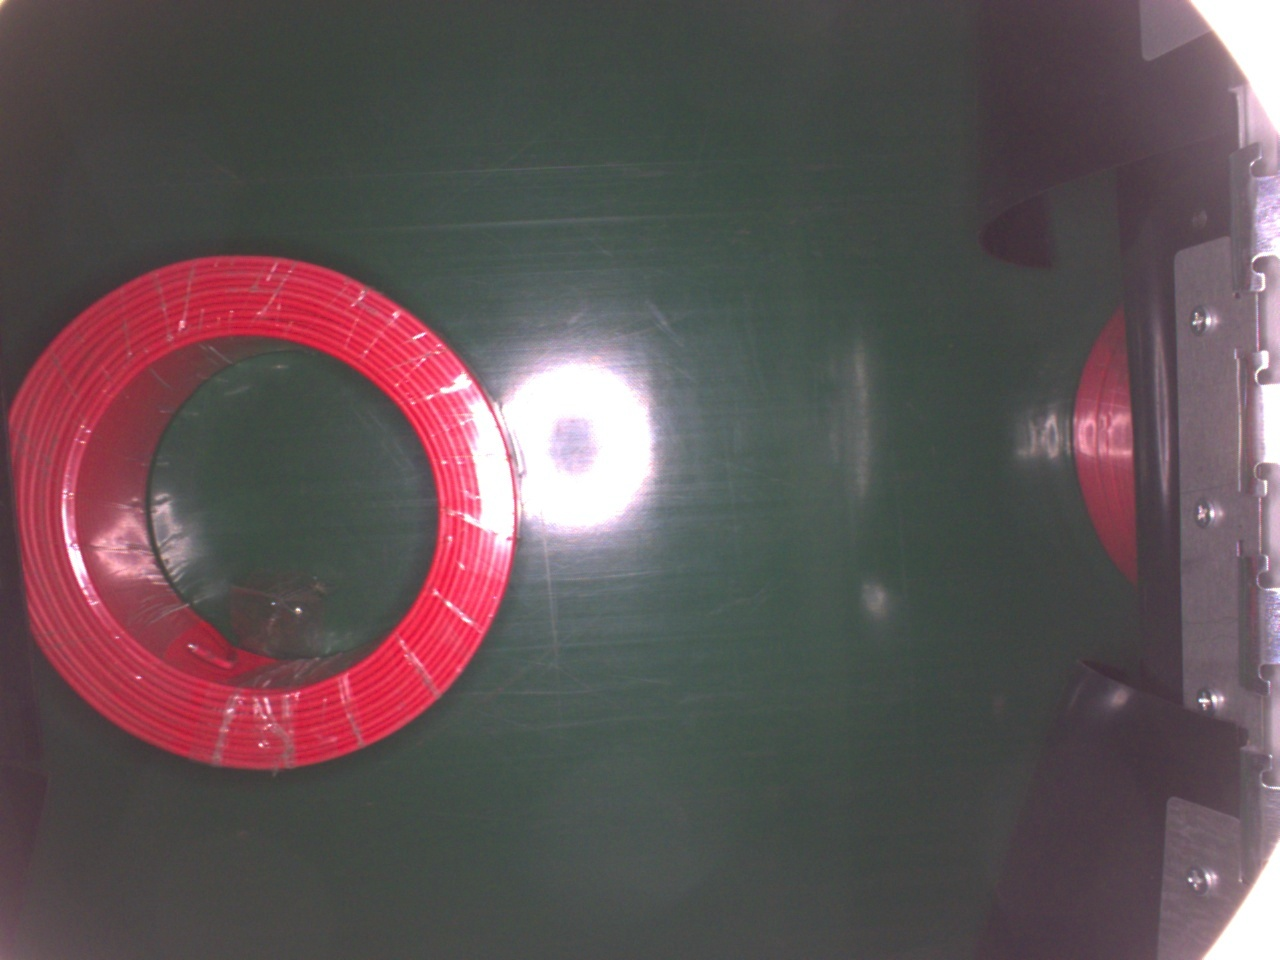red: (8, 249, 521, 774)
